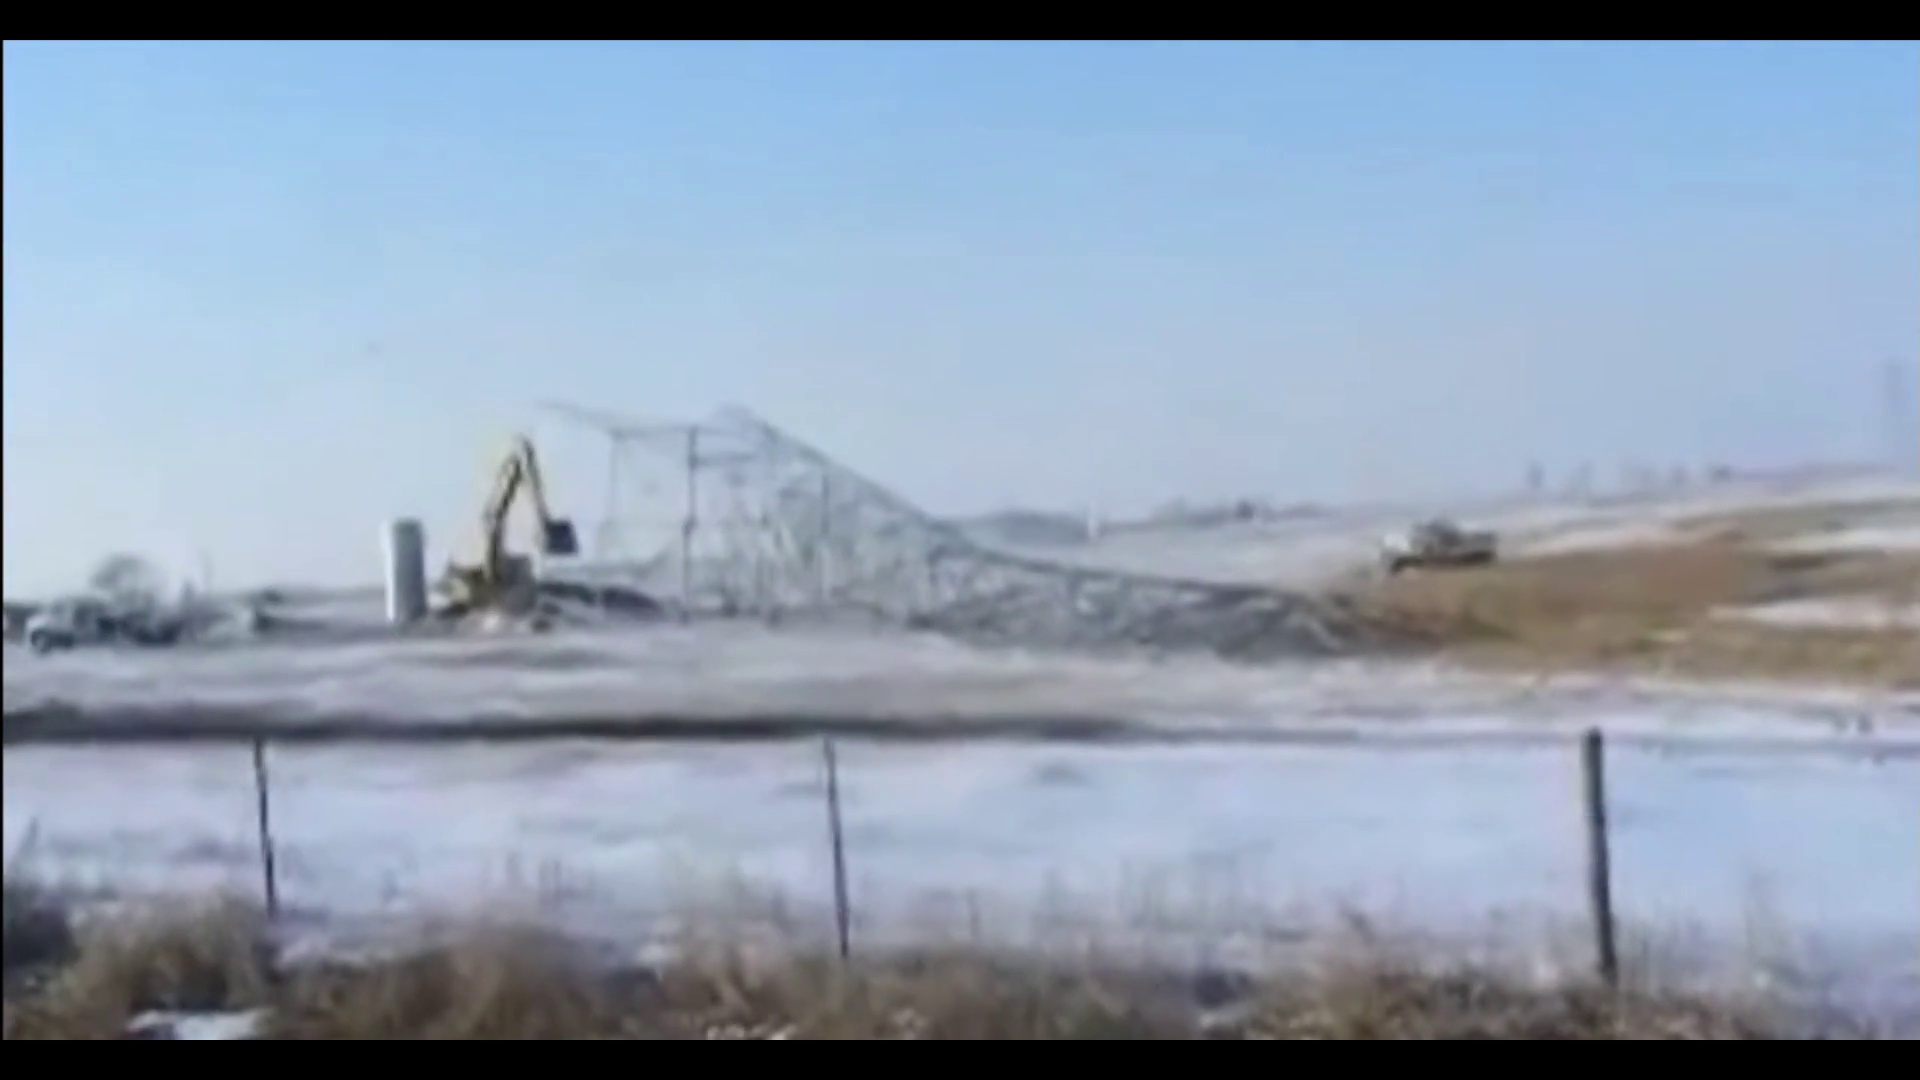tower_down: (583, 381, 1431, 676)
